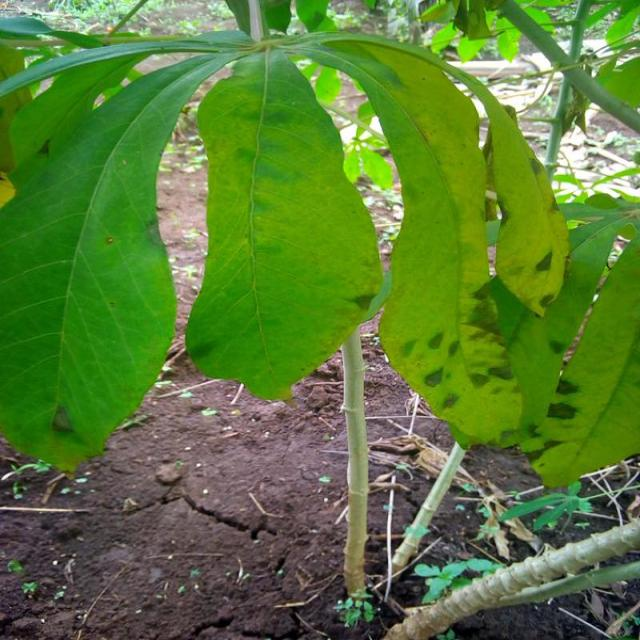cassava leaf: (0, 41, 243, 476), (184, 46, 389, 402)
